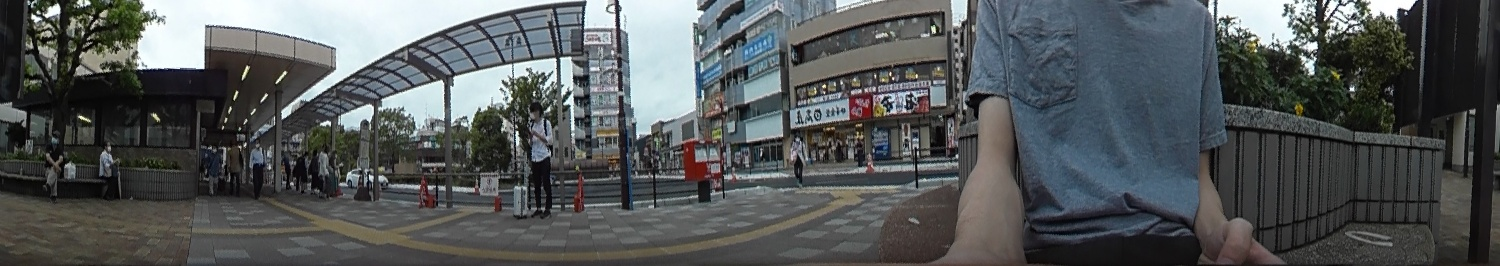difficult_person: (227, 143, 243, 198), (251, 139, 265, 195), (205, 145, 219, 195), (297, 151, 312, 196), (320, 144, 332, 196), (331, 147, 341, 197), (309, 151, 320, 195), (282, 153, 294, 190), (855, 136, 866, 161), (835, 138, 845, 160)
person: (523, 104, 555, 214), (42, 127, 68, 199), (99, 139, 125, 203), (788, 133, 808, 187)
